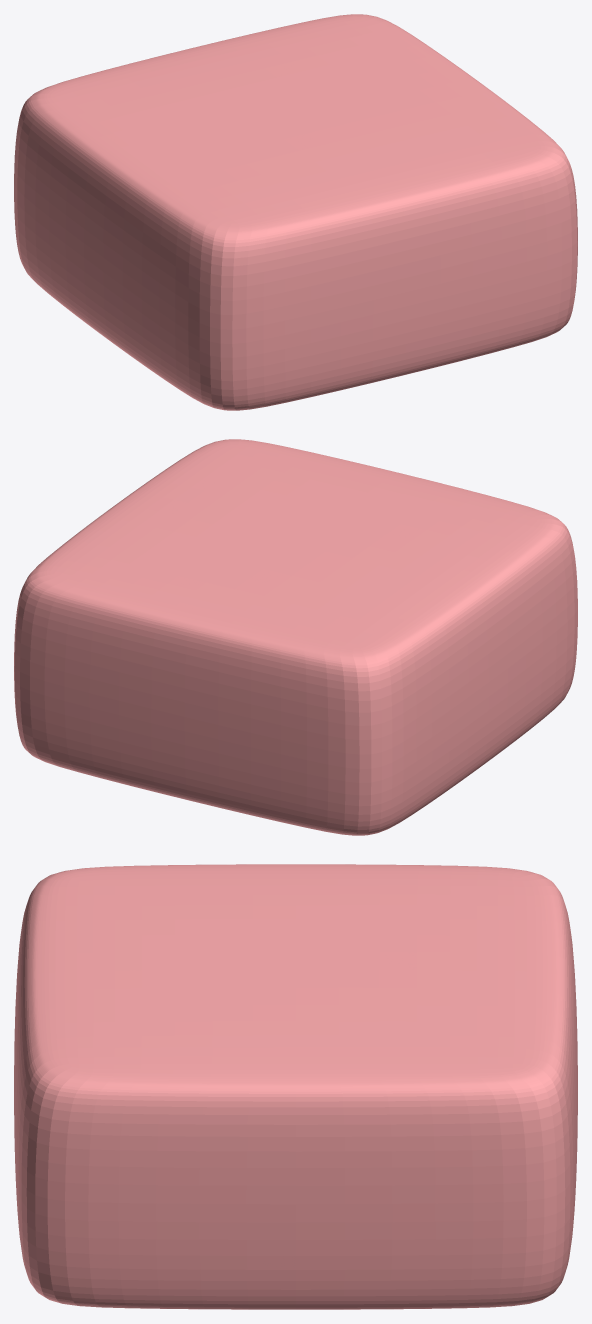
The model's file is CakeBigLayerCherry.glb.
3 views of the same model, one above another, from view 1: azimuth 30°, elevation 25°; view 2: azimuth 150°, elevation 25°; view 3: azimuth 270°, elevation 25° (orthographic). The views are drawn at different scales.
Visible parts, largest first — view 1: Cube.028; view 2: Cube.028; view 3: Cube.028.
Part boxes in pixels (x1,y1,x2,y2): Cube.028: [14, 14, 577, 410]; Cube.028: [14, 439, 577, 835]; Cube.028: [14, 864, 577, 1309].
Size of the model in its own units: 1.99 by 0.9083 by 1.99.
